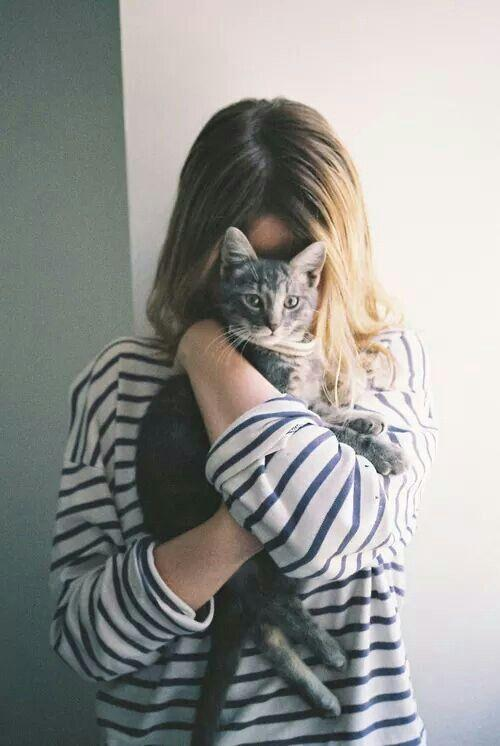kedo: (137, 226, 409, 745)
